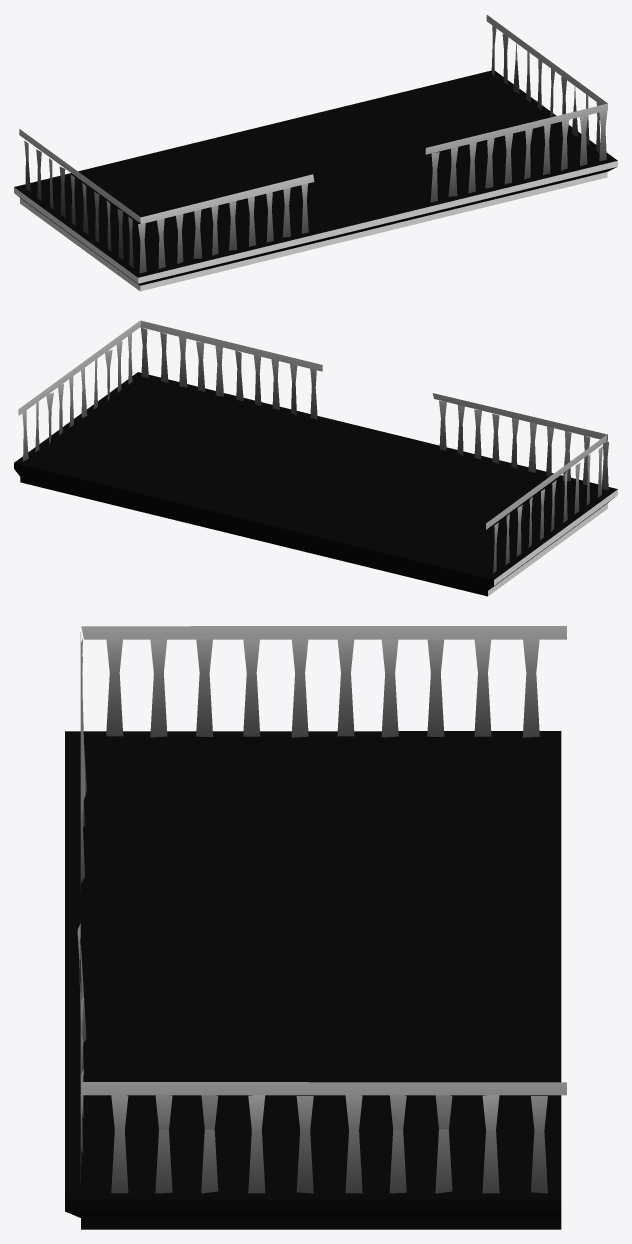
Rendered from Porch6.glb.
3 views of the same model, one above another, from view 1: azimuth 30°, elevation 25°; view 2: azimuth 150°, elevation 25°; view 3: azimuth 270°, elevation 25° (orthographic). The views are drawn at different scales.
Visible parts, largest first — view 1: Porch6; view 2: Porch6; view 3: Porch6.
Part boxes in pixels (x1,y1,x2,y2): Porch6: (14, 15, 617, 291); Porch6: (14, 320, 617, 596); Porch6: (65, 626, 566, 1229).
Size of what is drawn, in the model's own units: 12.05 by 1.77 by 5.46.
1 material, 1 textured.
